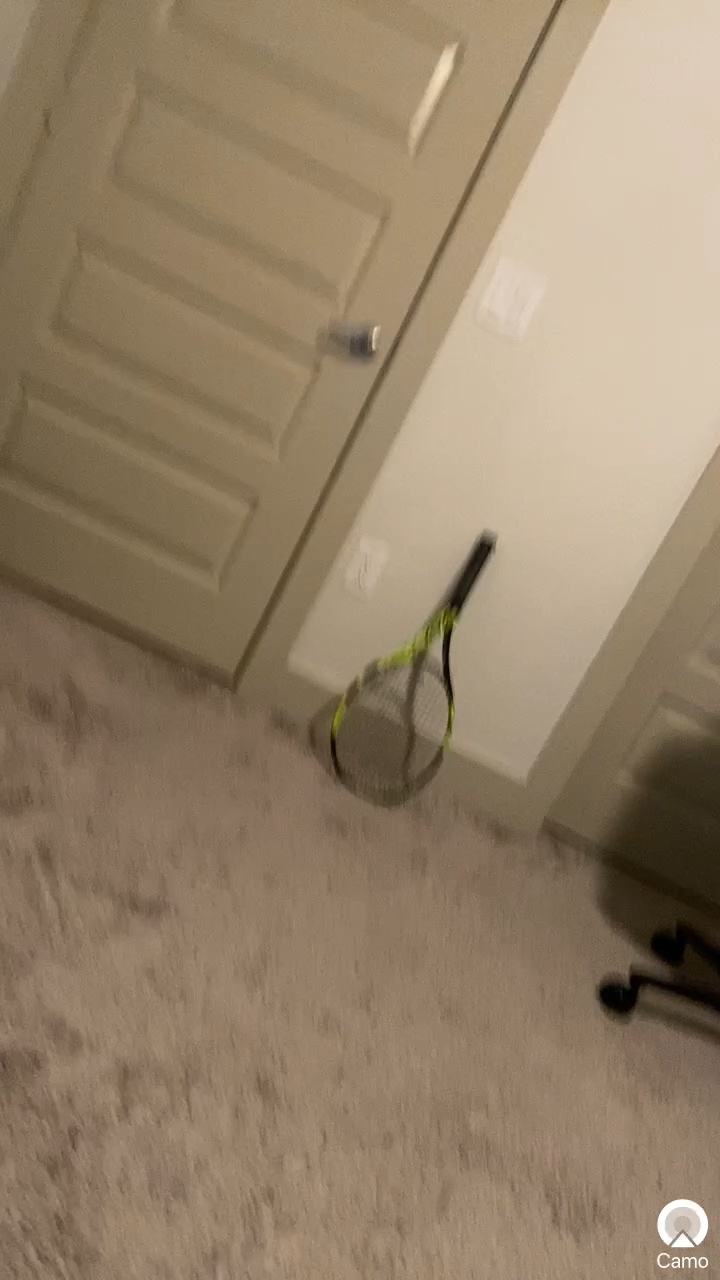Tennis_Racquet: (298, 520, 526, 828)
